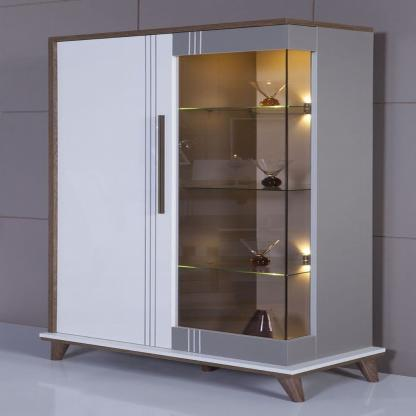Cupboard: (39, 20, 388, 404)
